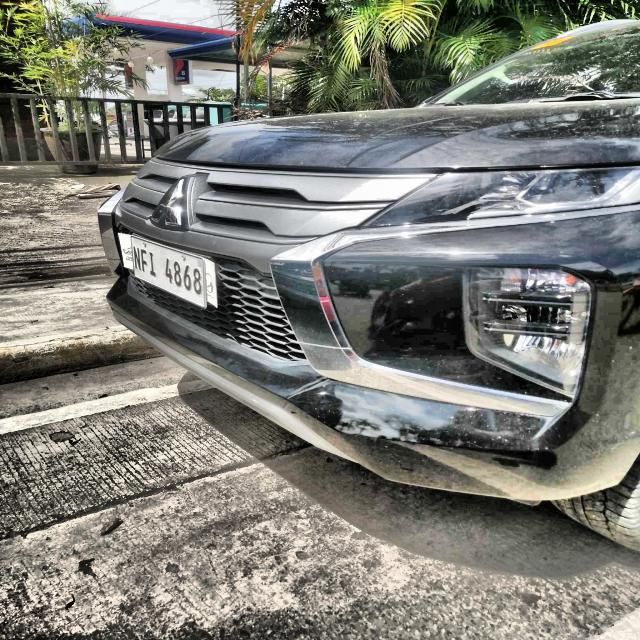license-plate: (117, 236, 220, 309)
